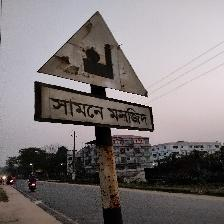Mosque in front: (35, 11, 152, 131)
